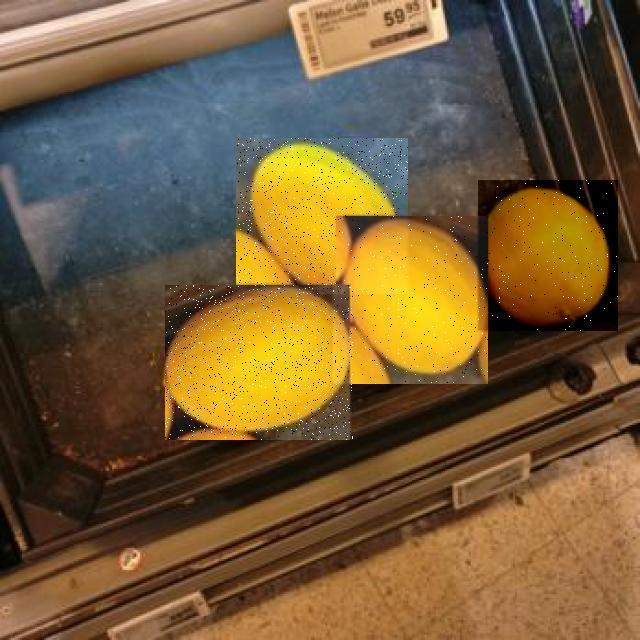Galia: (166, 285, 354, 440), (236, 138, 408, 294), (336, 217, 488, 385), (478, 180, 618, 331)
